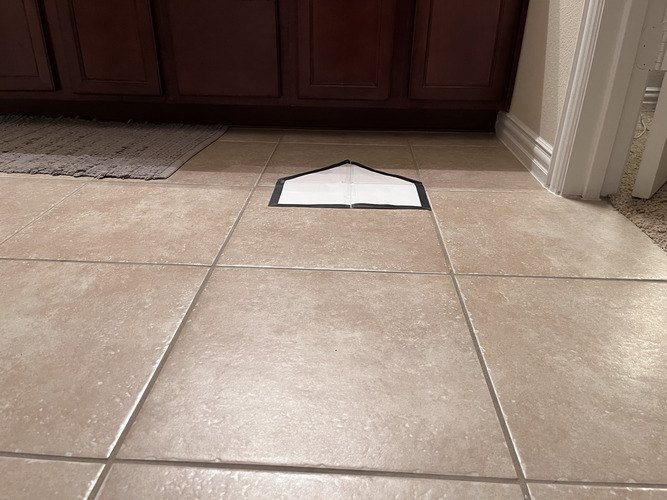homeplate: (269, 159, 429, 212)
